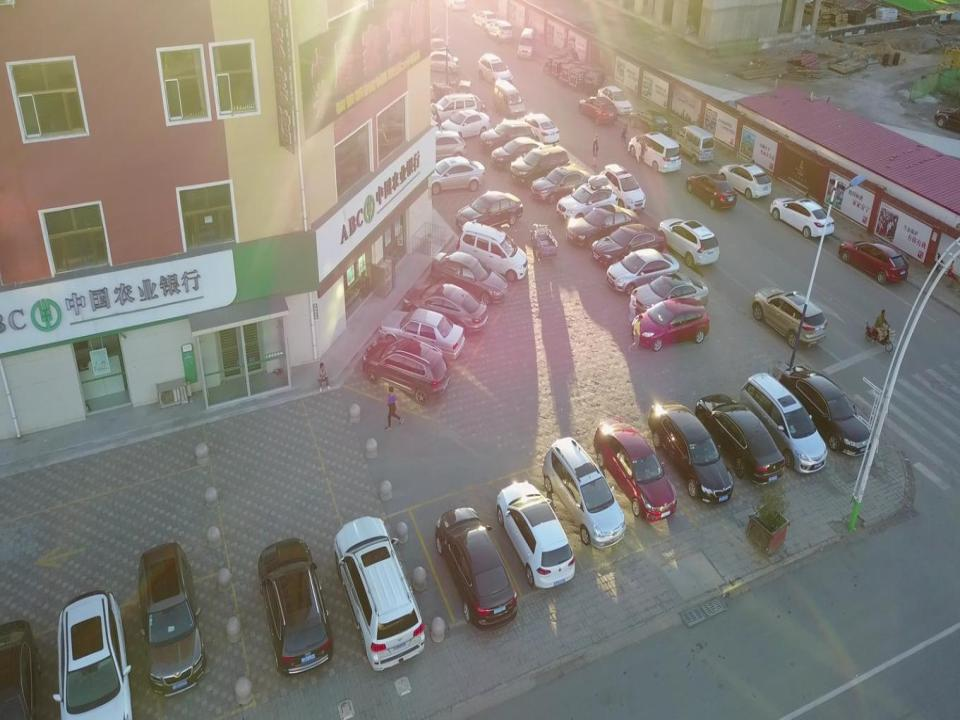car: (334, 516, 425, 670), (258, 538, 333, 680), (137, 542, 206, 696), (53, 590, 133, 720), (436, 507, 518, 631), (542, 436, 626, 548), (648, 399, 733, 505), (737, 373, 827, 473), (593, 419, 677, 522), (496, 482, 575, 588), (695, 393, 785, 485), (779, 366, 871, 456), (362, 338, 450, 406), (751, 286, 827, 349), (378, 308, 466, 360), (403, 283, 488, 335), (456, 221, 528, 282), (631, 297, 709, 351), (430, 250, 507, 304), (0, 620, 41, 719), (630, 272, 710, 319), (606, 248, 679, 296), (590, 222, 666, 266), (566, 203, 640, 246), (838, 240, 909, 284), (658, 219, 719, 268), (456, 191, 522, 233), (770, 198, 834, 239), (556, 182, 618, 222), (510, 145, 570, 186), (422, 156, 485, 195), (598, 164, 646, 212), (530, 166, 592, 203), (628, 133, 681, 172), (491, 136, 546, 172), (478, 120, 534, 154), (686, 173, 737, 209), (718, 164, 771, 198), (440, 108, 491, 140), (414, 130, 466, 161), (432, 92, 476, 122), (628, 109, 672, 136), (478, 52, 512, 86), (578, 96, 617, 125), (522, 114, 559, 144), (597, 86, 633, 116), (421, 51, 459, 74), (486, 20, 513, 43), (471, 10, 497, 30), (427, 38, 449, 57), (441, 0, 465, 11)
truck: (568, 65, 592, 89), (561, 60, 585, 84), (551, 57, 577, 79), (583, 68, 606, 92), (554, 47, 578, 69), (542, 56, 568, 76)
van: (675, 125, 715, 164), (492, 80, 524, 117), (518, 28, 535, 60)
